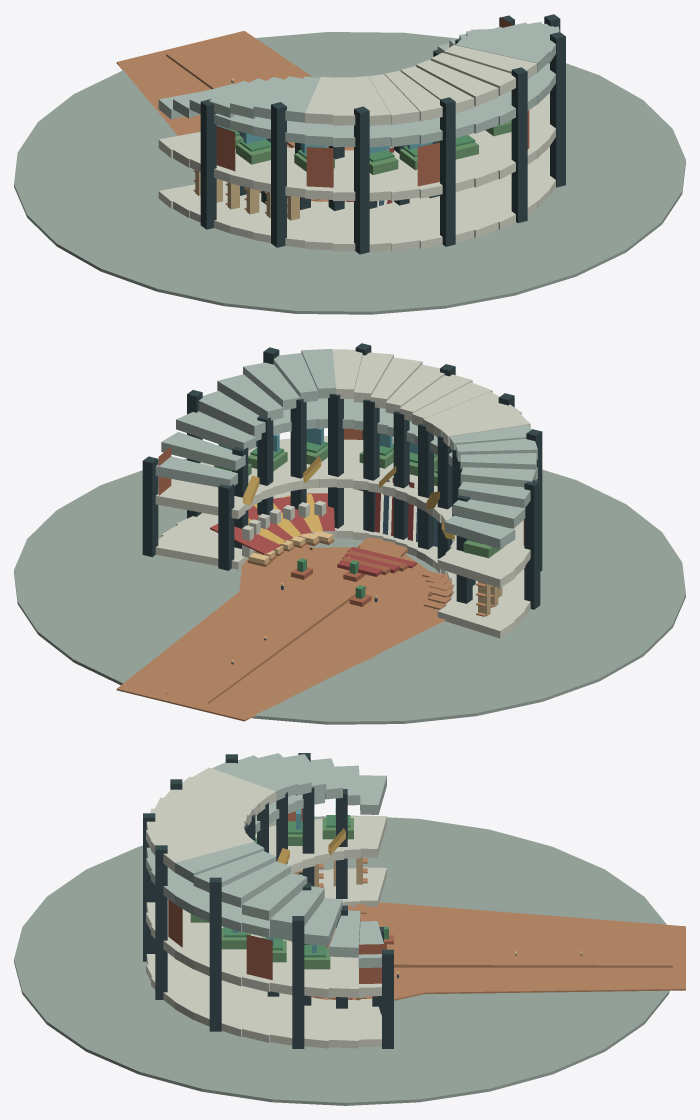
File: a48_inhabited_civic_forum.obj
3 views of the same model, one above another, from view 1: azimuth 30°, elevation 25°; view 2: azimuth 150°, elevation 25°; view 3: azimuth 270°, elevation 25° (orthographic).
Size of the model in its own units: 156 by 39.29 by 154.
